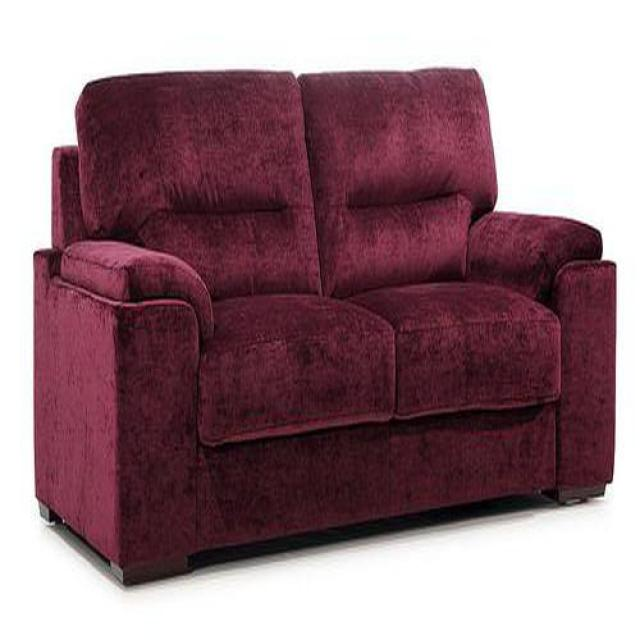sofa: (32, 68, 618, 589)
